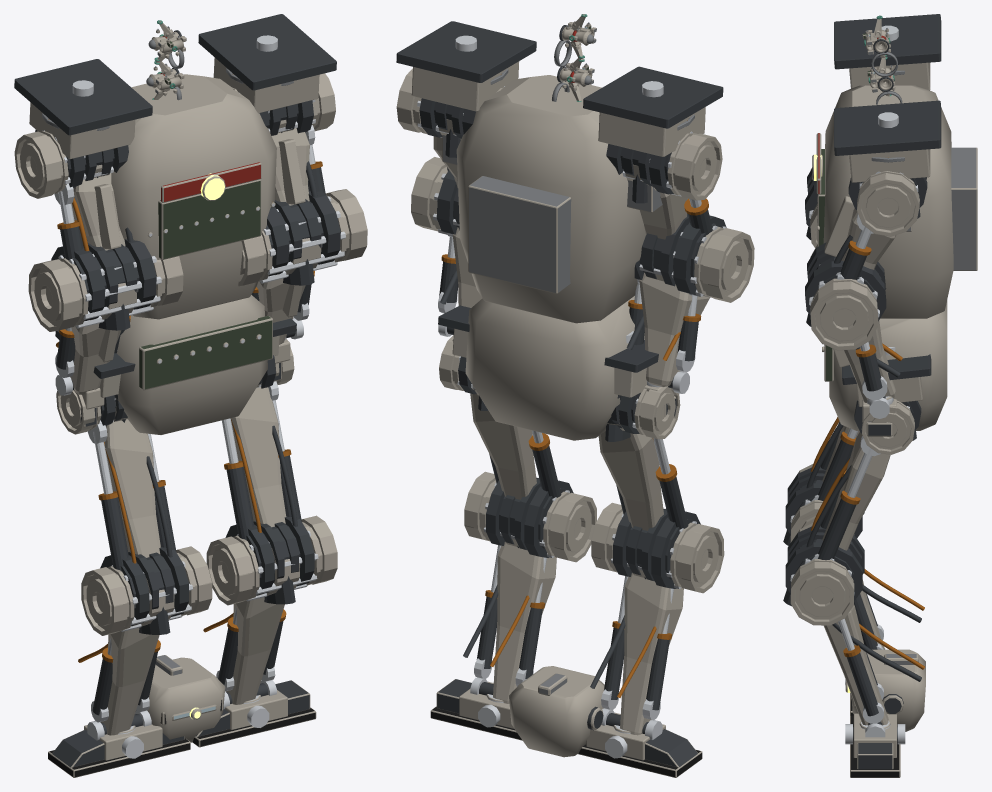
File: humanoid_robot.fbx
3 views of the same model, side by side, from view 1: azimuth 30°, elevation 25°; view 2: azimuth 150°, elevation 25°; view 3: azimuth 270°, elevation 25° (orthographic). The views are drawn at different scales.
Visible parts, largest first — view 1: Mesh_Humanoid_Chest, Mesh_Arm_L_Upper, Mesh_Humanoid_Pelvis, Mesh_Leg_L_Shin, Mesh_Leg_R_Shin, Mesh_Arm_L_Fore, Mesh_Arm_R_Upper, Mesh_Leg_L_Thigh, Mesh_Arm_R_Fore, Mesh_Leg_R_Thigh, Mesh_Humanoid_Head, Mesh_Leg_L_Foot (+3 smaller); view 2: Mesh_Humanoid_Chest, Mesh_Humanoid_Pelvis, Mesh_Leg_L_Shin, Mesh_Leg_R_Shin, Mesh_Arm_L_Upper, Mesh_Arm_L_Fore, Mesh_Arm_R_Upper, Mesh_Leg_L_Thigh, Mesh_Leg_R_Thigh, Mesh_Humanoid_Head, Mesh_Arm_R_Fore, Mesh_Leg_L_Foot (+3 smaller); view 3: Mesh_Humanoid_Chest, Mesh_Arm_R_Upper, Mesh_Leg_R_Thigh, Mesh_Leg_R_Shin, Mesh_Arm_R_Fore, Mesh_Humanoid_Pelvis, Mesh_Arm_L_Upper, Mesh_Humanoid_Head, Mesh_Leg_L_Shin, Mesh_Leg_L_Thigh, Mesh_Leg_R_Foot, Mesh_Arm_L_Fore (+5 smaller).
Part boxes in pixels (x1,y1,x2,y2): Mesh_Humanoid_Chest: [111, 74, 276, 319]; Mesh_Arm_L_Upper: [14, 59, 152, 347]; Mesh_Humanoid_Pelvis: [113, 295, 272, 434]; Mesh_Leg_L_Shin: [81, 546, 212, 735]; Mesh_Leg_R_Shin: [206, 515, 337, 704]; Mesh_Arm_L_Fore: [28, 239, 183, 394]; Mesh_Arm_R_Upper: [198, 14, 336, 205]; Mesh_Leg_L_Thigh: [55, 330, 176, 662]; Mesh_Arm_R_Fore: [238, 189, 367, 344]; Mesh_Leg_R_Thigh: [203, 318, 301, 632]; Mesh_Humanoid_Head: [147, 655, 225, 742]; Mesh_Leg_L_Foot: [48, 724, 190, 777]; Mesh_Humanoid_Chest: [442, 75, 662, 323]; Mesh_Humanoid_Pelvis: [465, 296, 644, 440]; Mesh_Leg_L_Shin: [591, 502, 724, 735]; Mesh_Leg_R_Shin: [464, 471, 596, 703]; Mesh_Arm_L_Upper: [583, 66, 723, 360]; Mesh_Arm_L_Fore: [628, 213, 754, 386]; Mesh_Arm_R_Upper: [396, 21, 536, 304]; Mesh_Leg_L_Thigh: [590, 339, 688, 697]; Mesh_Leg_R_Thigh: [438, 305, 561, 666]; Mesh_Humanoid_Head: [509, 666, 604, 757]; Mesh_Arm_R_Fore: [411, 157, 482, 313]; Mesh_Leg_L_Foot: [578, 712, 702, 777]; Mesh_Humanoid_Chest: [812, 85, 977, 318]; Mesh_Arm_R_Upper: [824, 100, 941, 377]; Mesh_Leg_R_Thigh: [806, 354, 931, 681]; Mesh_Leg_R_Shin: [783, 523, 888, 725]; Mesh_Arm_R_Fore: [805, 242, 895, 402]; Mesh_Humanoid_Pelvis: [822, 300, 947, 430]; Mesh_Arm_L_Upper: [834, 14, 941, 90]; Mesh_Humanoid_Head: [845, 649, 925, 731]; Mesh_Leg_L_Shin: [783, 464, 884, 649]; Mesh_Leg_L_Thigh: [806, 417, 924, 622]; Mesh_Leg_R_Foot: [850, 713, 900, 777]; Mesh_Arm_L_Fore: [805, 167, 817, 247].
Size of the model in its own units: 77.58 by 176 by 44.61.
